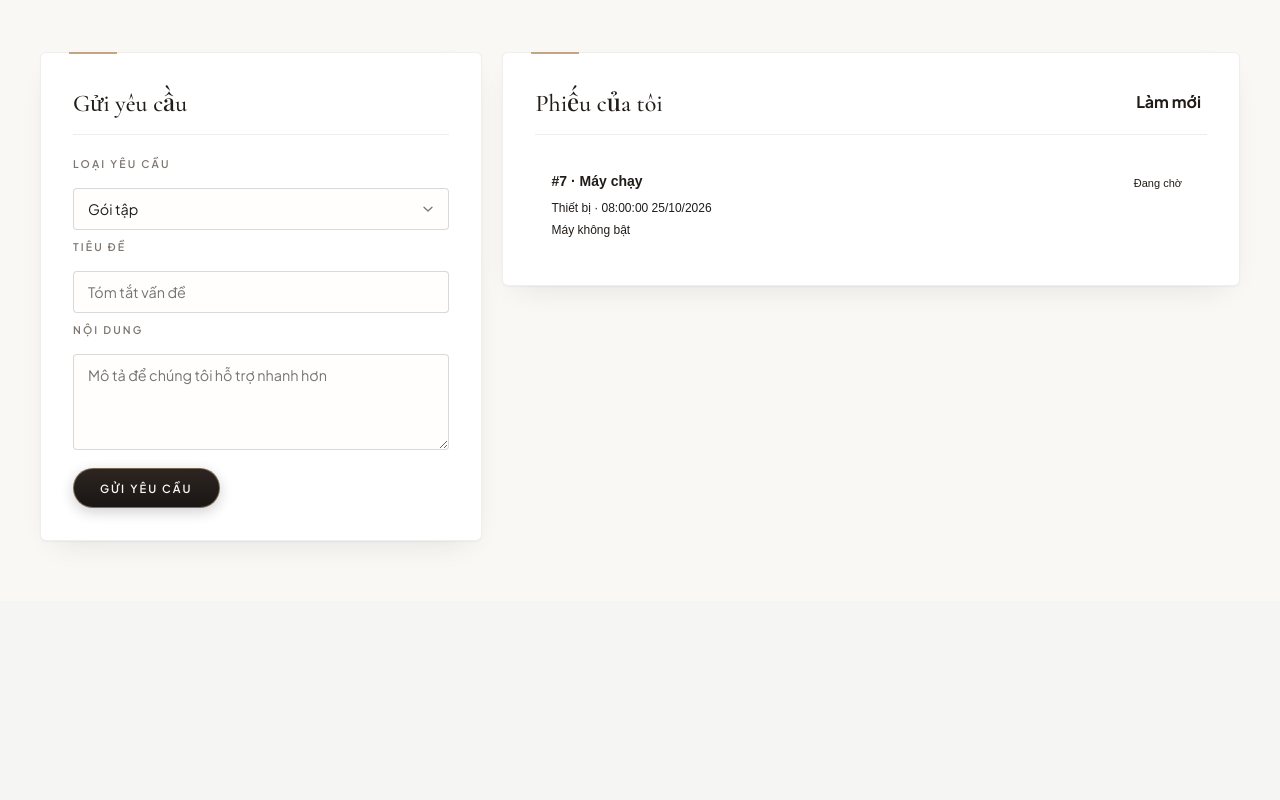
Test: lists member tickets, maps status and opens an empty conversation
This screenshot has width=1280, height=800.
Click the button with class "member-support-ticket". click: (611, 181)
box: [536,157,1207,253]
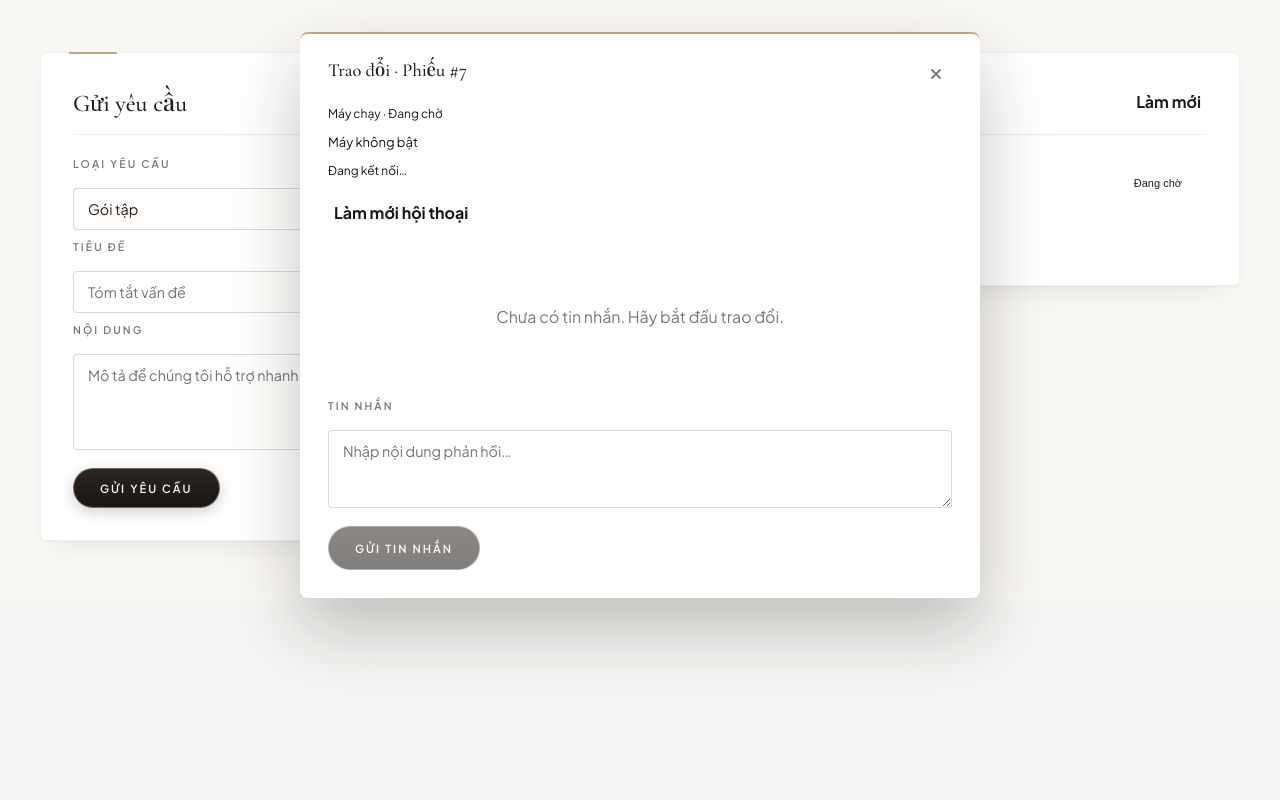
Check: the text "Chưa có tin nhắn" is shown, box [496,306,784,327]
